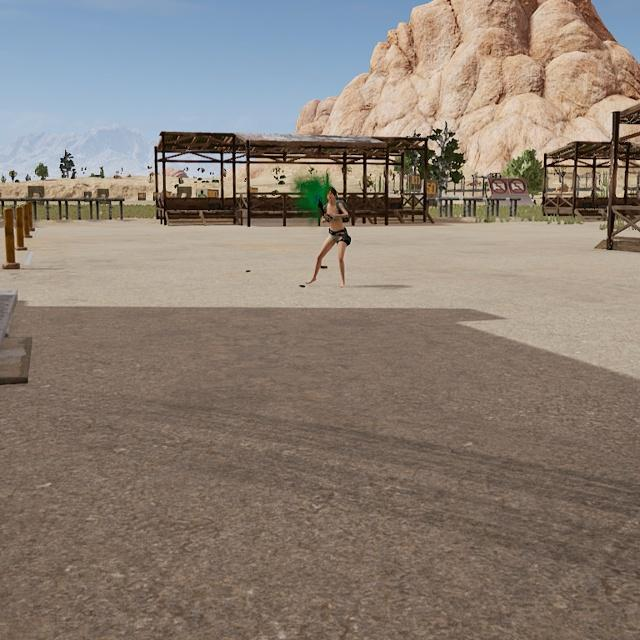head: (325, 186, 339, 203)
people: (307, 185, 352, 288)
